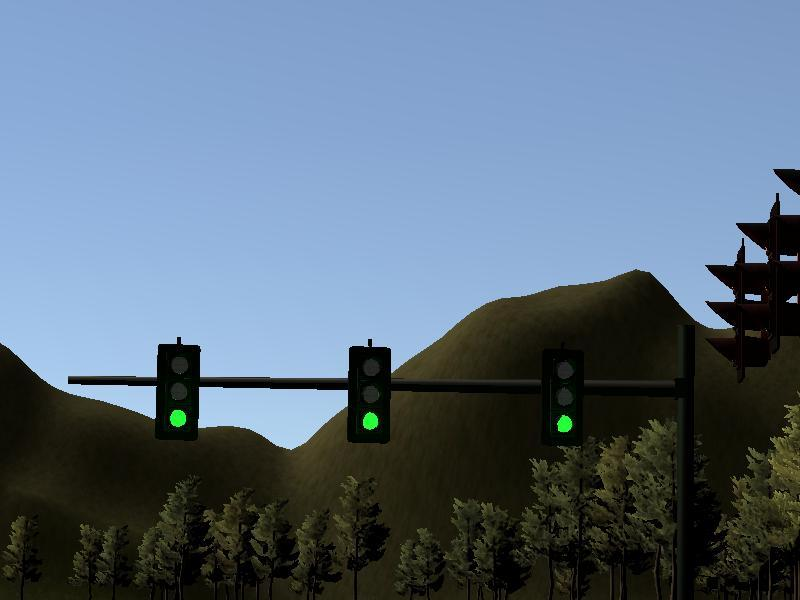Green: (155, 344, 199, 441), (542, 350, 586, 447), (346, 346, 390, 443)
